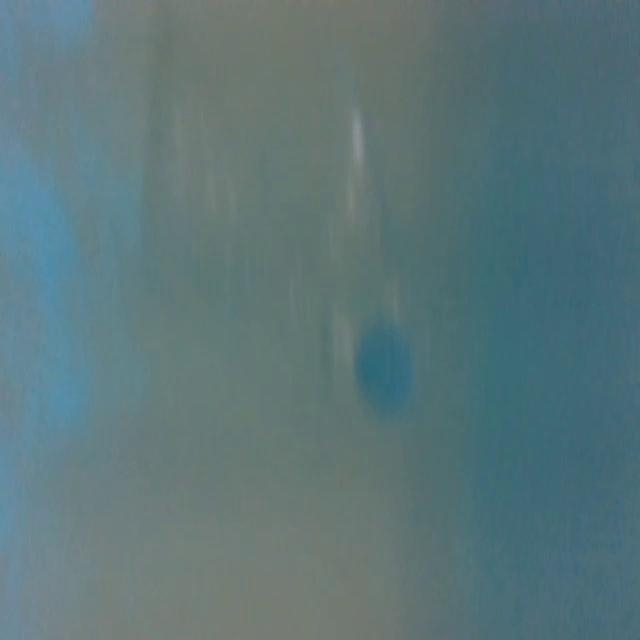plastic bottle: (246, 34, 444, 430)
